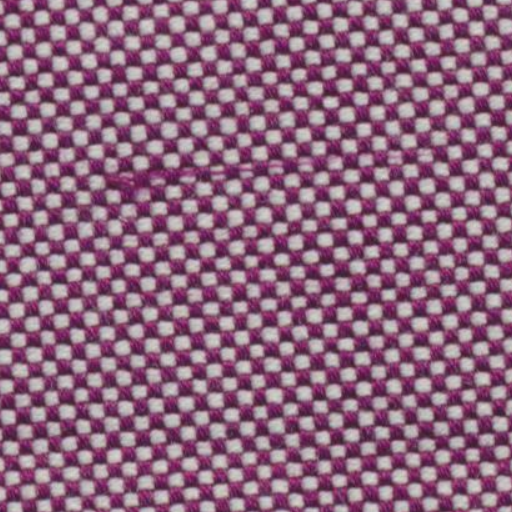DuanSha: (106, 159, 206, 198)
